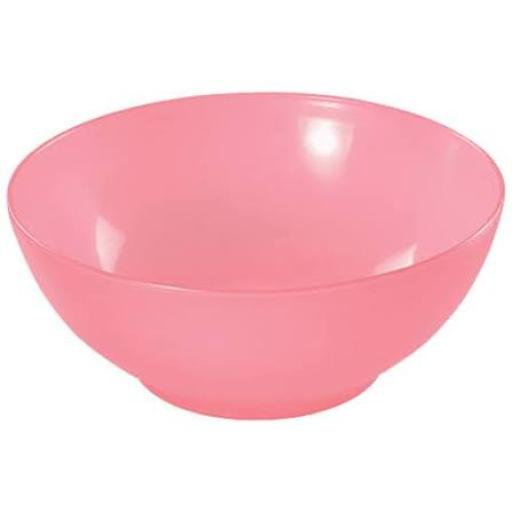Bowl: (8, 93, 504, 418)
